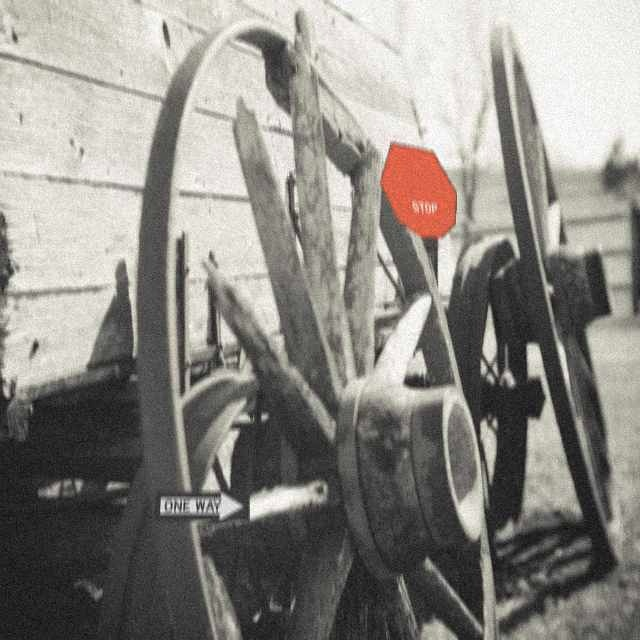ONE_WAY_ right: (153, 490, 250, 521)
STOP: (379, 141, 457, 238)
